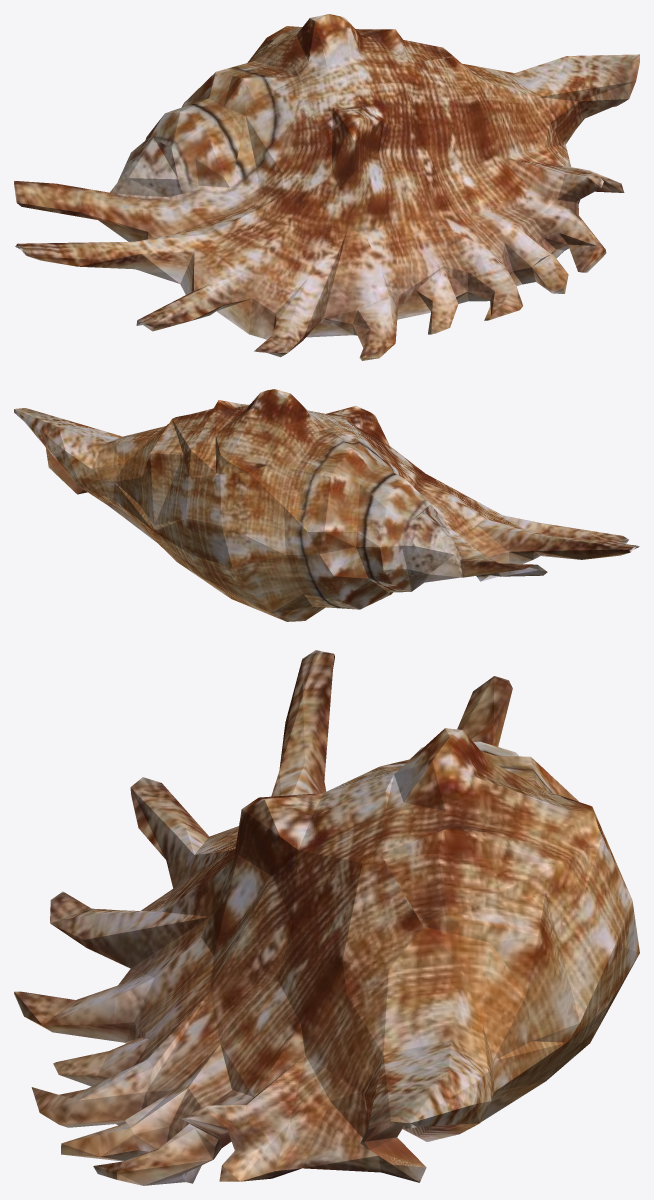
File: lambis_shell.glb
3 renders of one model, top to bottom at view 1: azimuth 30°, elevation 25°; view 2: azimuth 150°, elevation 25°; view 3: azimuth 270°, elevation 25°, orthographic. The views are drawn at different scales.
Parts seen in each view (by area): view 1: lambis_shell; view 2: lambis_shell; view 3: lambis_shell.
Boxes of the visible parts, x1=… form: lambis_shell: x1=14, y1=14, x2=639, y2=360; lambis_shell: x1=14, y1=389, x2=639, y2=621; lambis_shell: x1=14, y1=650, x2=639, y2=1185.
Bounding box in the file's own units: 0.1387 × 0.0461 × 0.0744.
1 material, 1 textured.
